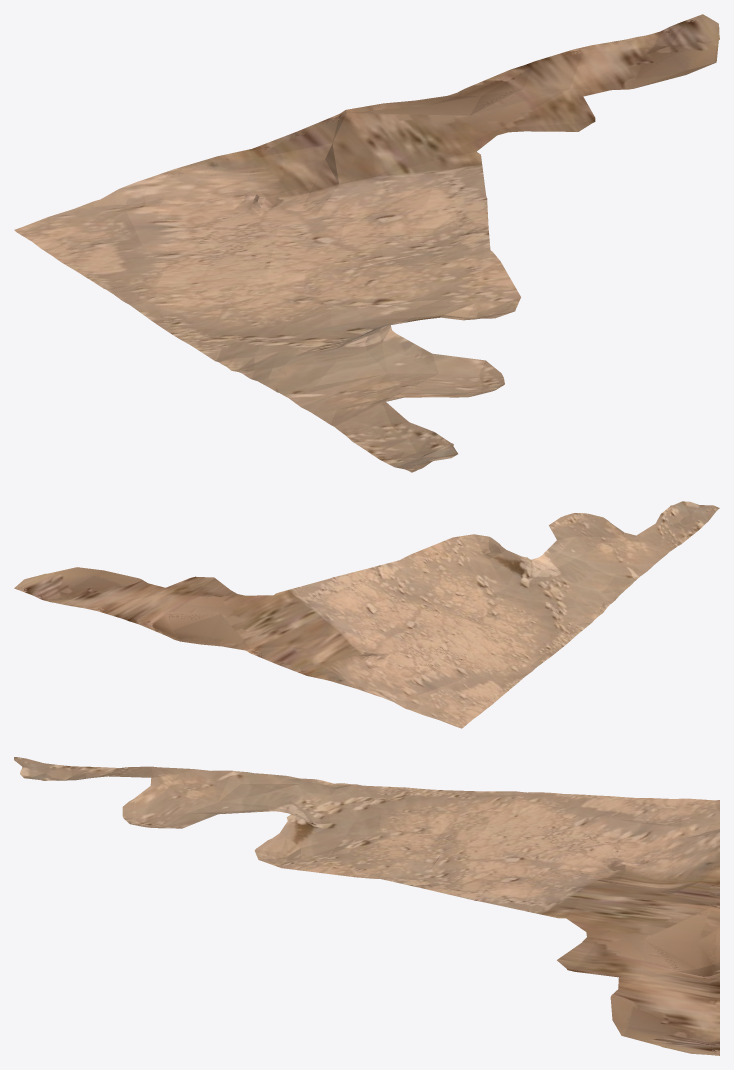
The picture shows the model from 3 angles, top to bottom: view 1: azimuth 30°, elevation 25°; view 2: azimuth 150°, elevation 25°; view 3: azimuth 270°, elevation 25°; orthographic projection. The views are drawn at different scales.
Size of the model in its own units: 2.09 by 0.1465 by 2.09.
1 material, 1 textured.
